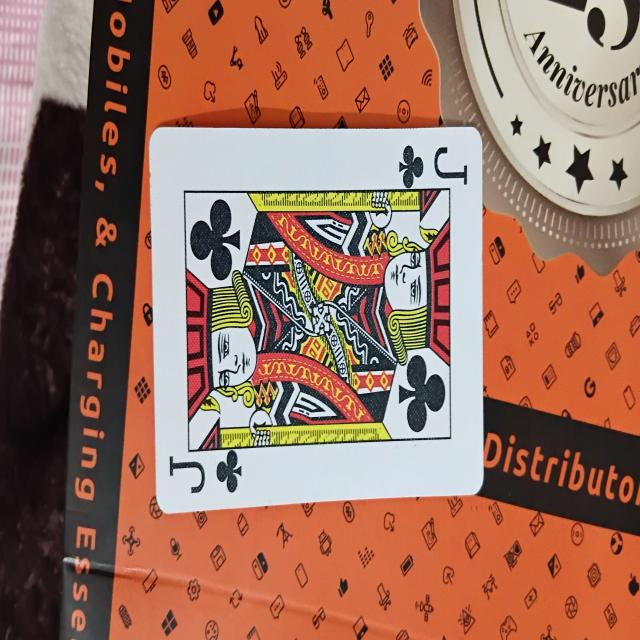JC: (150, 122, 483, 498)
